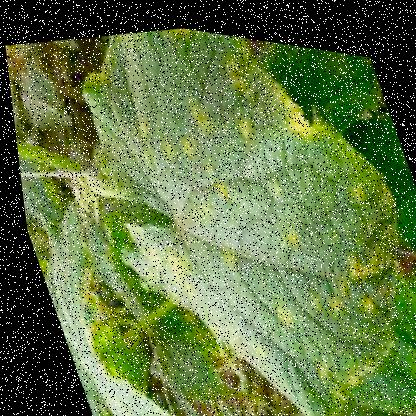DownyMildew: (204, 114, 415, 400), (66, 8, 305, 221)
